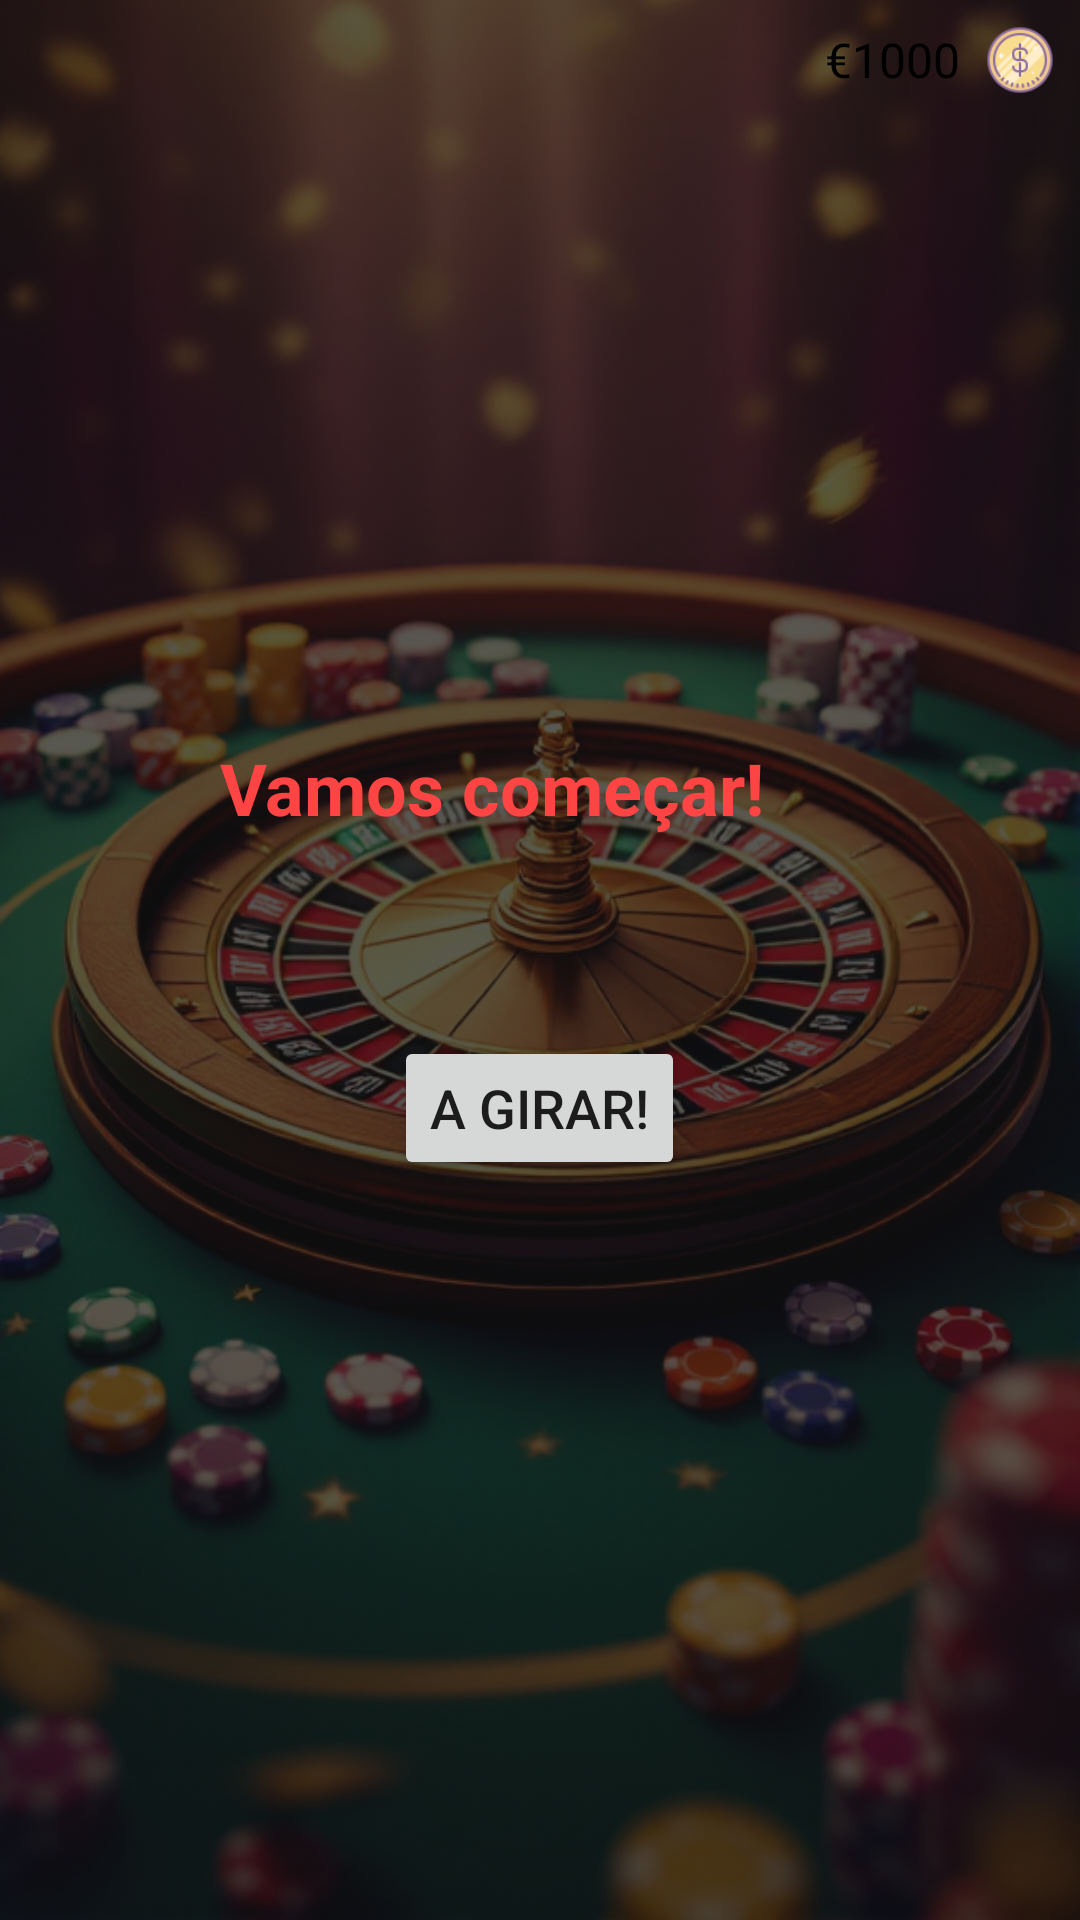

Where icons sit on this 1080px×1920px app screen, as (x1, y1, x2, y2):
Carregar Saldo: (984, 24, 1053, 93)
